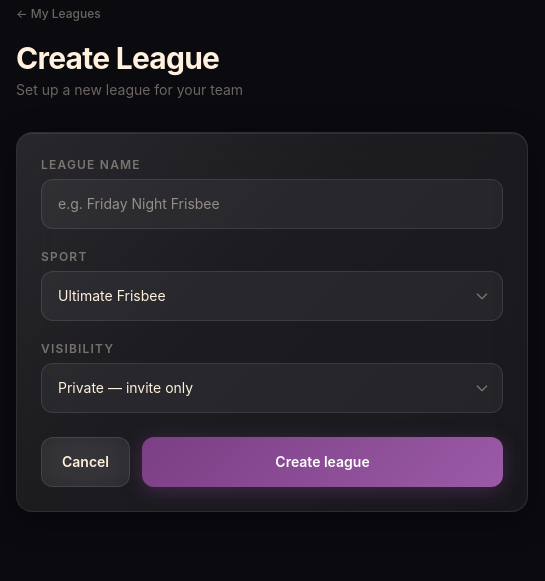
CreateLeaguePage › shows an error when createLeague fails
The image size is (545, 581).
Type "Bad League" into the field labelled "League Name".
click(272, 204); type("Bad League")  # box x1=41 y1=179 x2=503 y2=229
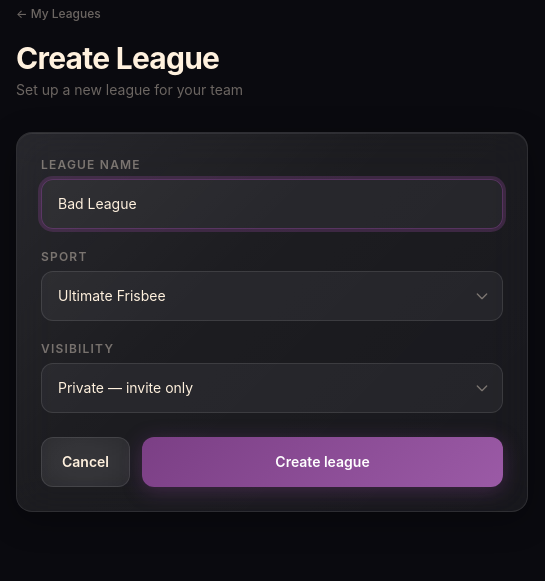
Click the button "Create league".
click(322, 462)  # box x1=142 y1=437 x2=503 y2=487
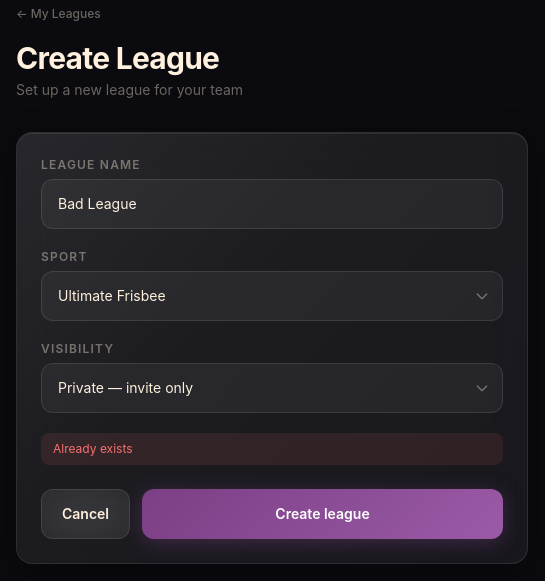
expect the message reads "Already exists": met, box x1=53 y1=441 x2=132 y2=456
